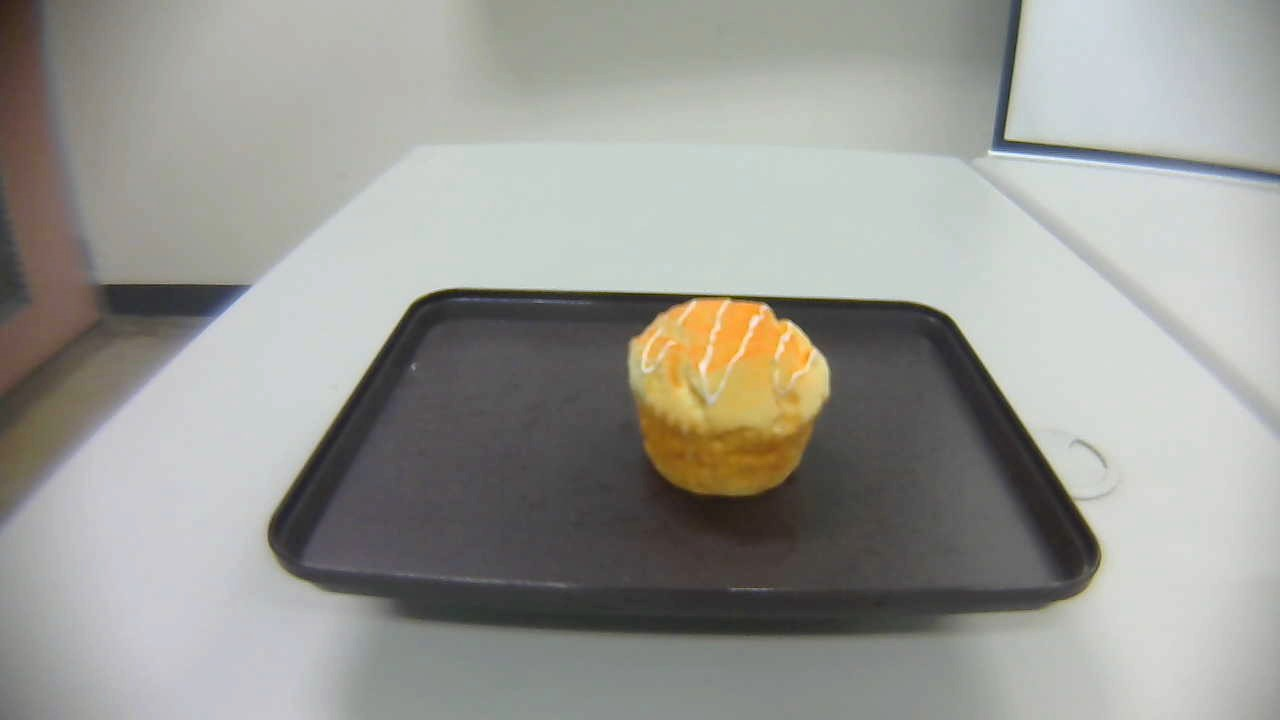cupcake: (626, 298, 829, 499)
